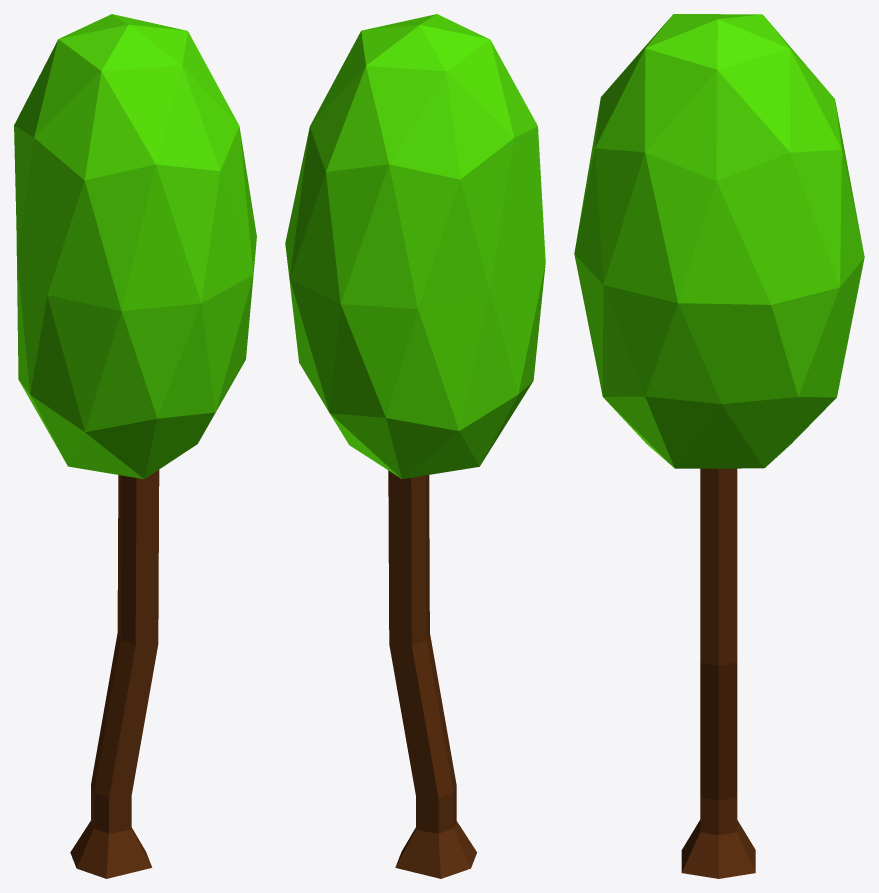
File: Low_poly_tree__2.glb
3 renders of one model, left to right at view 1: azimuth 30°, elevation 25°; view 2: azimuth 150°, elevation 25°; view 3: azimuth 270°, elevation 25°, orthographic. The views are drawn at different scales.
Visible parts, largest first — view 1: Low poly tree #2; view 2: Low poly tree #2; view 3: Low poly tree #2.
Part boxes in pixels (bbox=[...]): Low poly tree #2: bbox=[14, 14, 256, 878]; Low poly tree #2: bbox=[285, 14, 545, 878]; Low poly tree #2: bbox=[574, 14, 864, 878].
Bounding box in the file's own units: 1.41 × 5.28 × 1.63.
